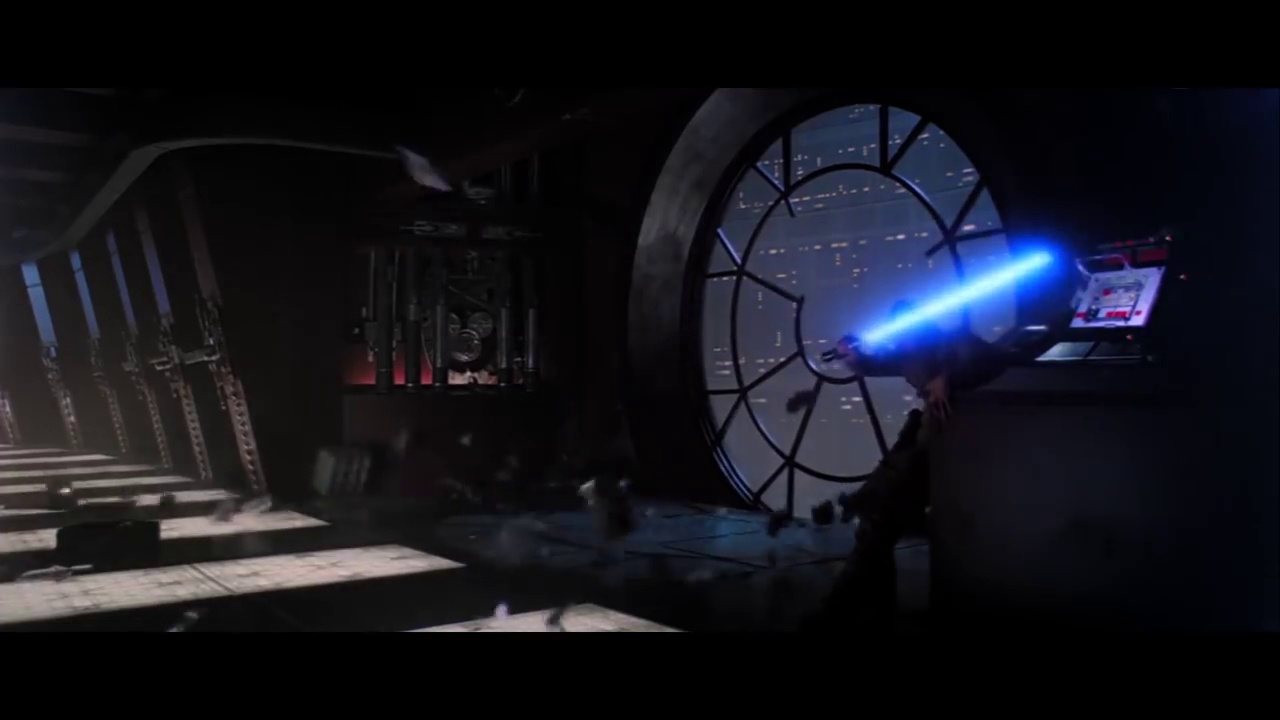lightsaber: (815, 238, 1062, 373)
